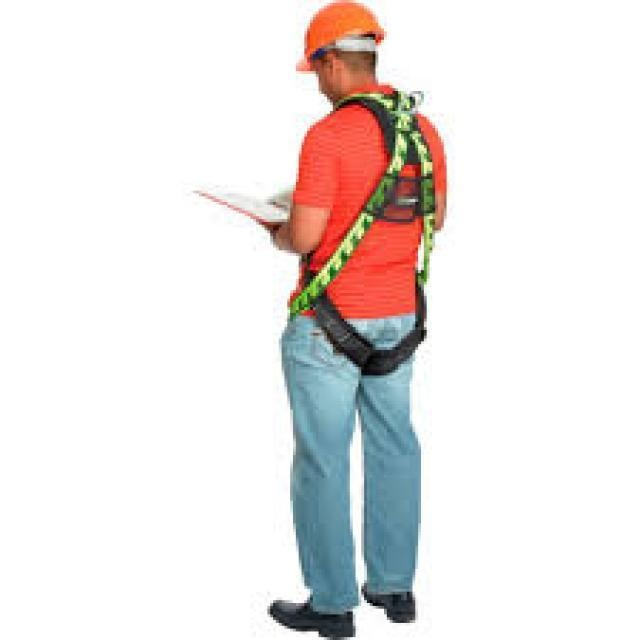Arnes_seguridad: (284, 84, 447, 376)
